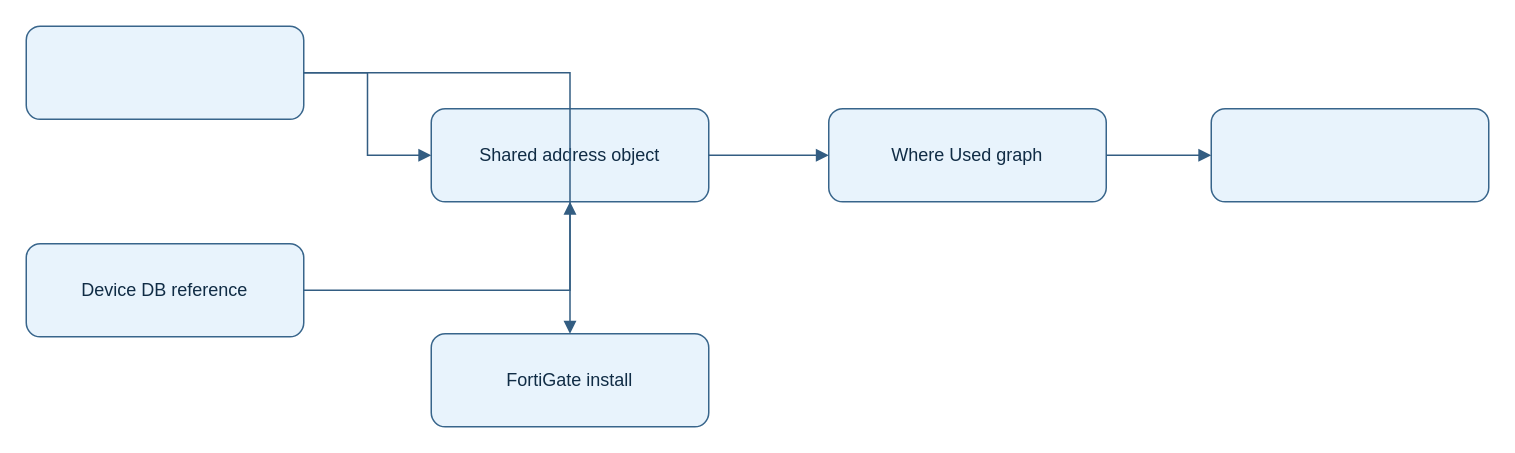
Image size: 1515x453. Some labels were removed from this diagram. The shapes that lost their labels are listed below. From the top down, each one's box as (x1, y1, x2, y2) in pixels, then its label:
(25, 25, 304, 119): Policy package
(1210, 107, 1489, 202): Deletion guard
